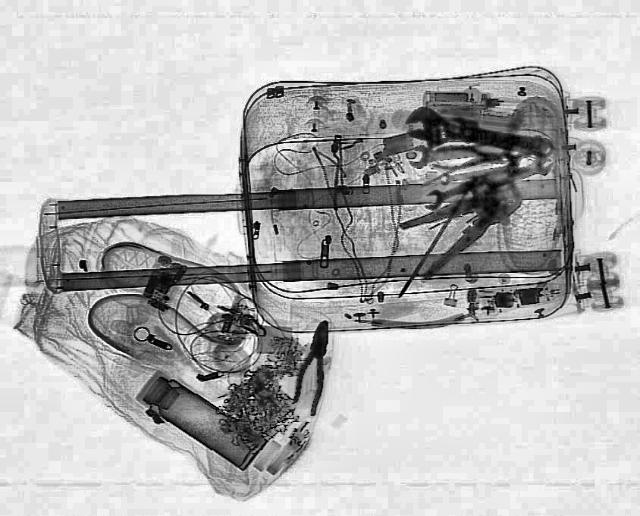Pliers: (382, 174, 548, 280), (283, 318, 337, 415)
Wrench: (399, 104, 559, 166), (414, 160, 516, 210)
